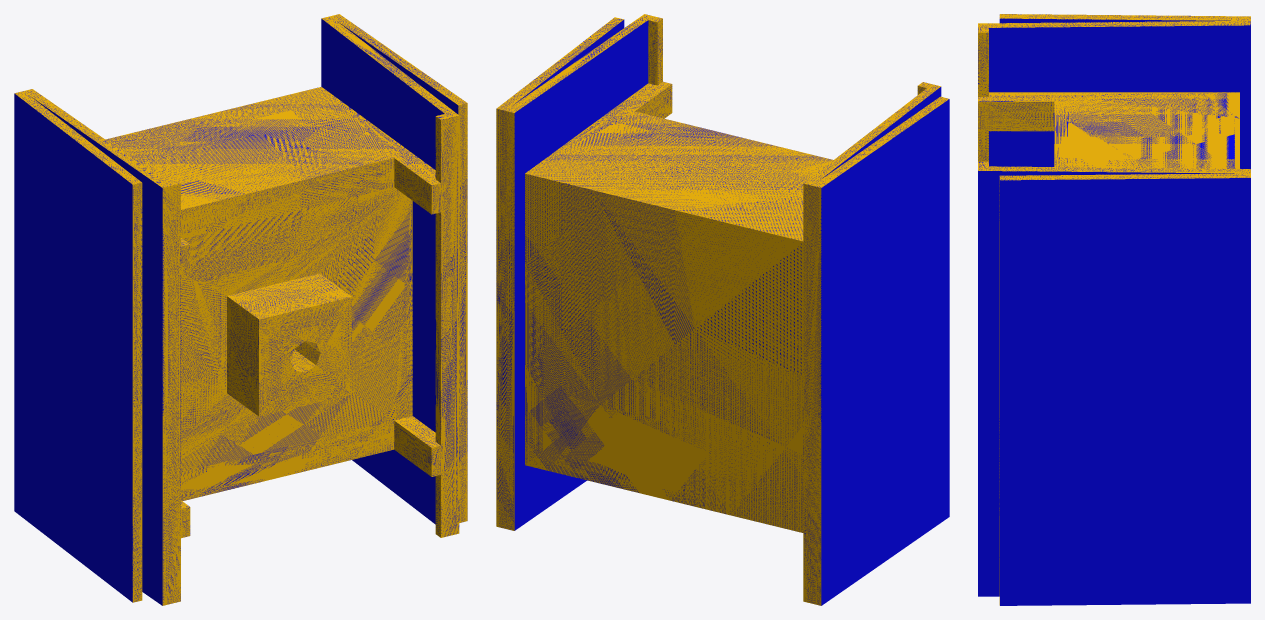
The model's file is Plateforme-OVT_plie.dae.
3 views of the same model, side by side, from view 1: azimuth 30°, elevation 25°; view 2: azimuth 150°, elevation 25°; view 3: azimuth 270°, elevation 25° (orthographic).
Parts seen in each view (by area): view 1: Component_1 (×7); view 2: Component_1 (×4); view 3: Component_1 (×6).
Part boxes in pixels (x1,y1,x2,y2): Component_1 (×7): [14, 14, 467, 605]; Component_1 (×4): [496, 14, 949, 605]; Component_1 (×6): [978, 14, 1250, 605].
Size of the model in its own units: 14191 by 9840 by 16929.
